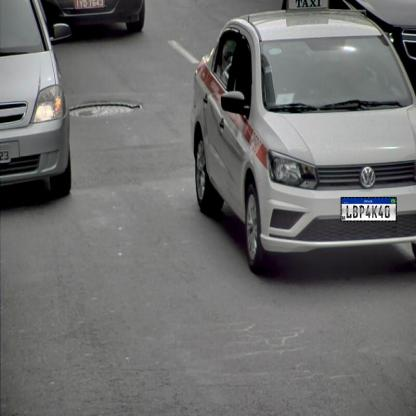PlacaM: (340, 197, 396, 222)
